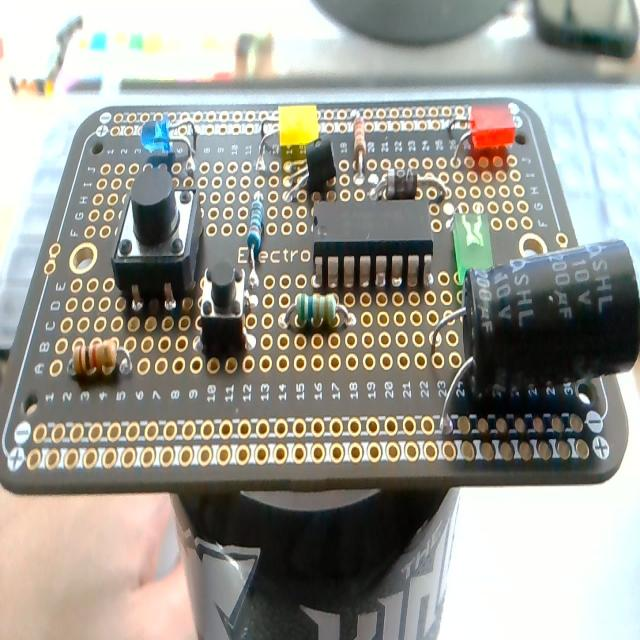Electrolytic capacitor: (433, 236, 638, 438)
IC: (312, 198, 436, 288)
diode: (372, 156, 442, 206)
led: (453, 103, 516, 163), (452, 209, 492, 286), (141, 122, 193, 177), (279, 103, 318, 150)
resistor: (280, 295, 355, 333), (67, 344, 133, 381), (245, 188, 265, 296), (352, 114, 367, 173)
switch: (108, 169, 206, 306), (197, 260, 254, 356)
transistor: (274, 128, 338, 204)
